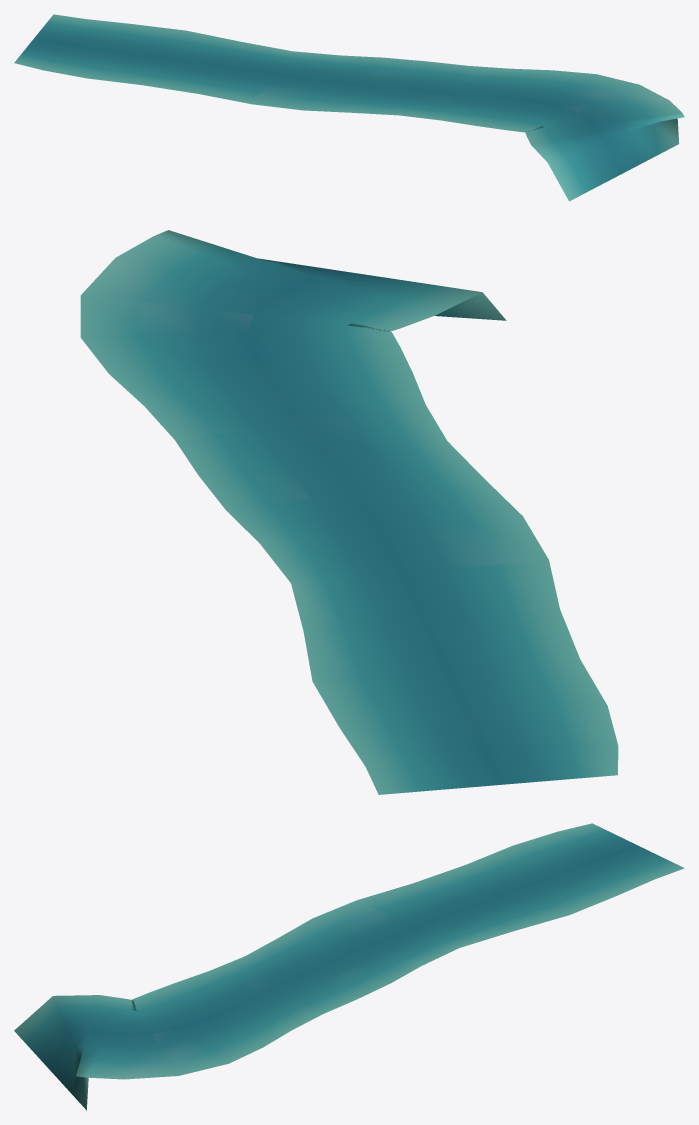
The model's file is ISL2_StreamUpper.fbx.
3 views of the same model, one above another, from view 1: azimuth 30°, elevation 25°; view 2: azimuth 150°, elevation 25°; view 3: azimuth 270°, elevation 25° (orthographic). The views are drawn at different scales.
Visible parts, largest first — view 1: ISL2_StreamUpper.001; view 2: ISL2_StreamUpper.001; view 3: ISL2_StreamUpper.001.
Part boxes in pixels (x1,y1,x2,y2): ISL2_StreamUpper.001: (14,14,684,201); ISL2_StreamUpper.001: (80,230,618,794); ISL2_StreamUpper.001: (14,823,684,1110).
Size of the model in its own units: 15.83 by 1.01 by 17.52.
